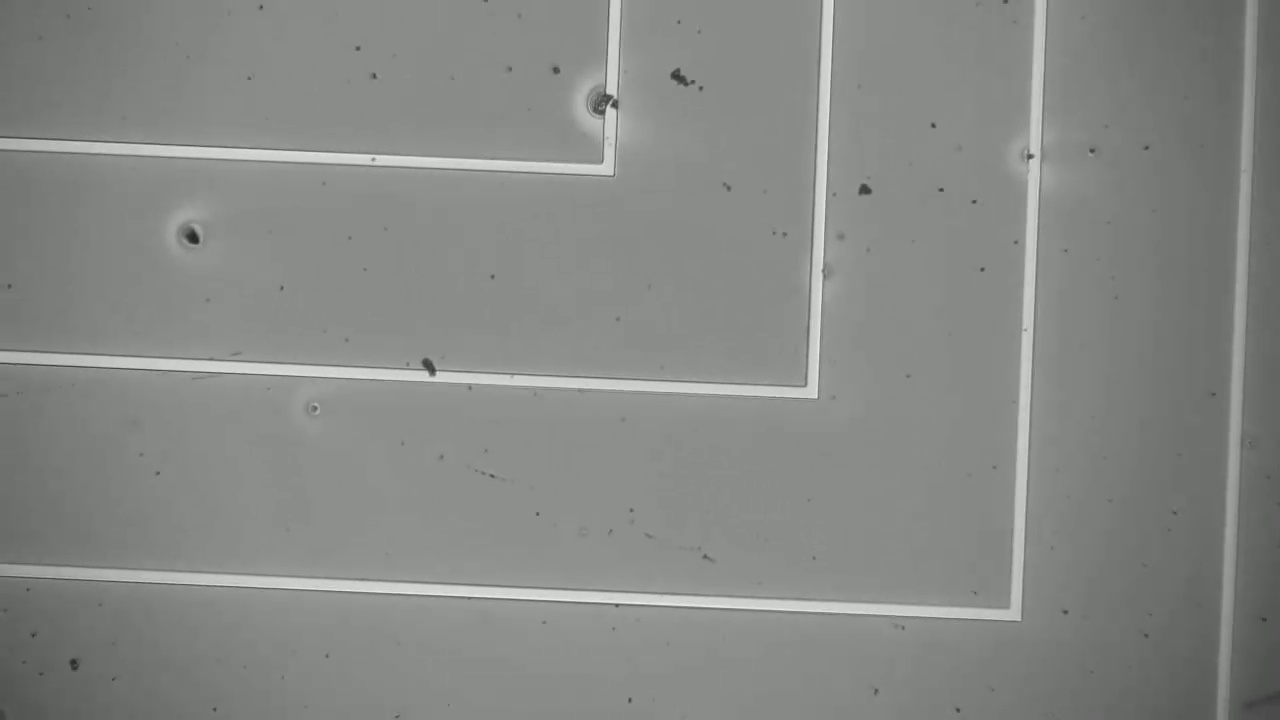stains_enbedded: (1012, 138, 1053, 177), (591, 88, 625, 124), (415, 353, 440, 390)
